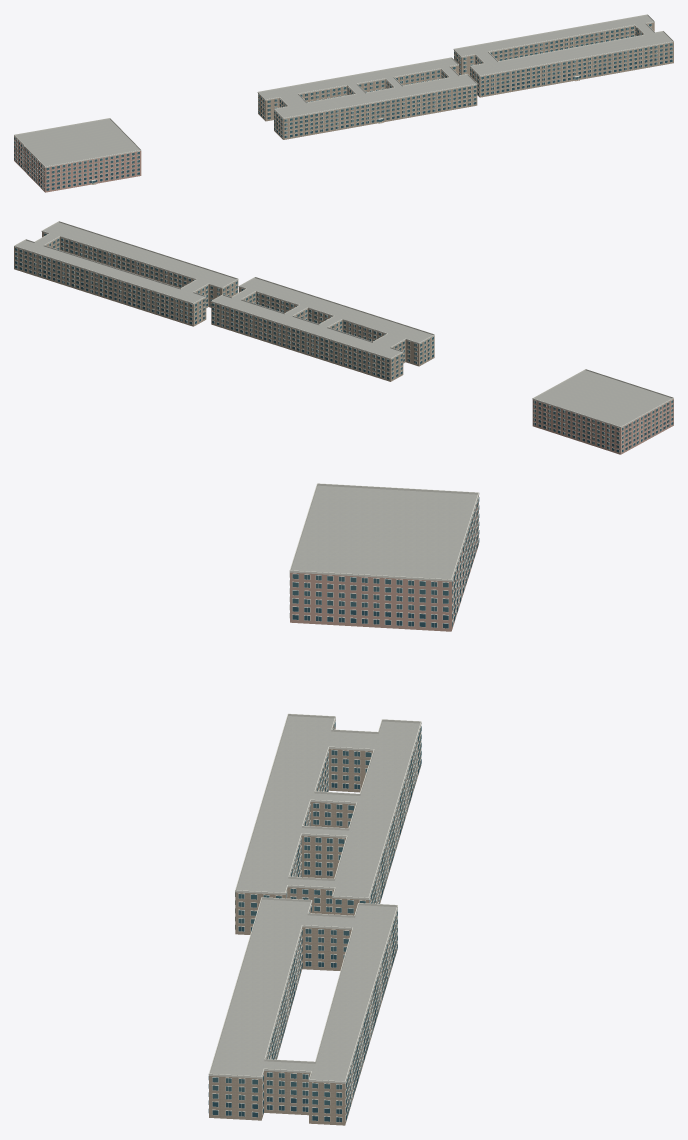
Rendered from chunk-n1-p2.glb.
3 renders of one model, top to bottom at view 1: azimuth 30°, elevation 25°; view 2: azimuth 150°, elevation 25°; view 3: azimuth 270°, elevation 25°, orthographic. The views are drawn at different scales.
Visible parts, largest first — view 1: chunk-n1-p2; view 2: chunk-n1-p2; view 3: chunk-n1-p2.
Part boxes in pixels (x1,y1,x2,y2): chunk-n1-p2: (14,14,673,192); chunk-n1-p2: (14,221,673,454); chunk-n1-p2: (208,483,479,1125).
Size of the model in its own units: 515 by 21.1 by 98.97.
Materials: 6 (2 with a texture image).
